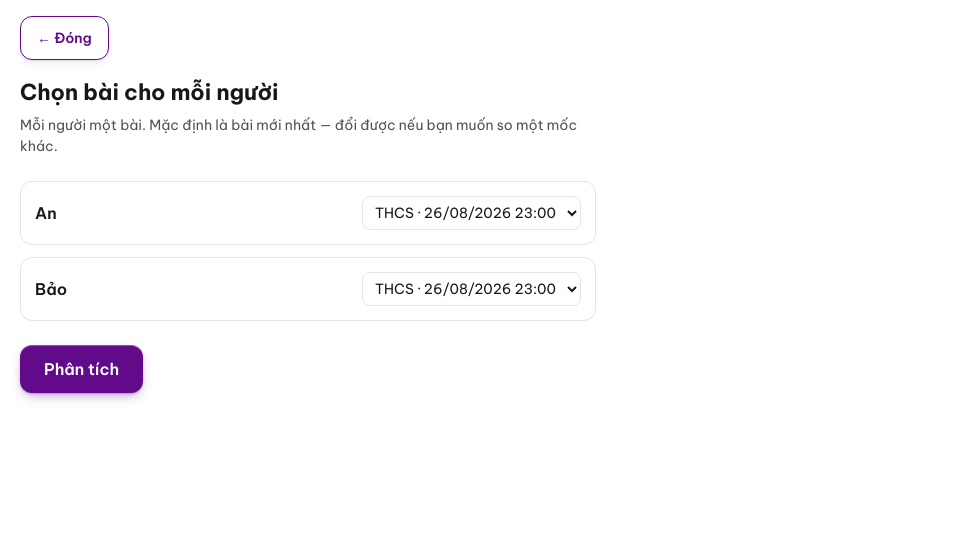
Test case: hai người y hệt nhau ⇒ vẫn có chữ, không màn trắng › trùng khớp bốn trục thì hiện khối 'cùng nhịp'
Click the button "Phân tích": click(82, 369) [20,345,143,393]
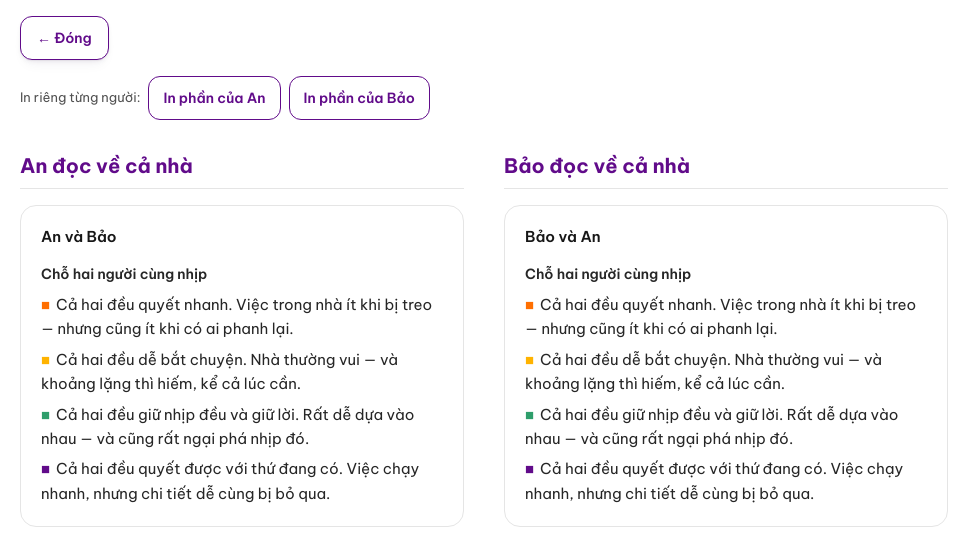
Now the element that starts with "An đọc về cả nhà" shows "Chỗ hai người cùng nhịp", box [41,265,207,283]
